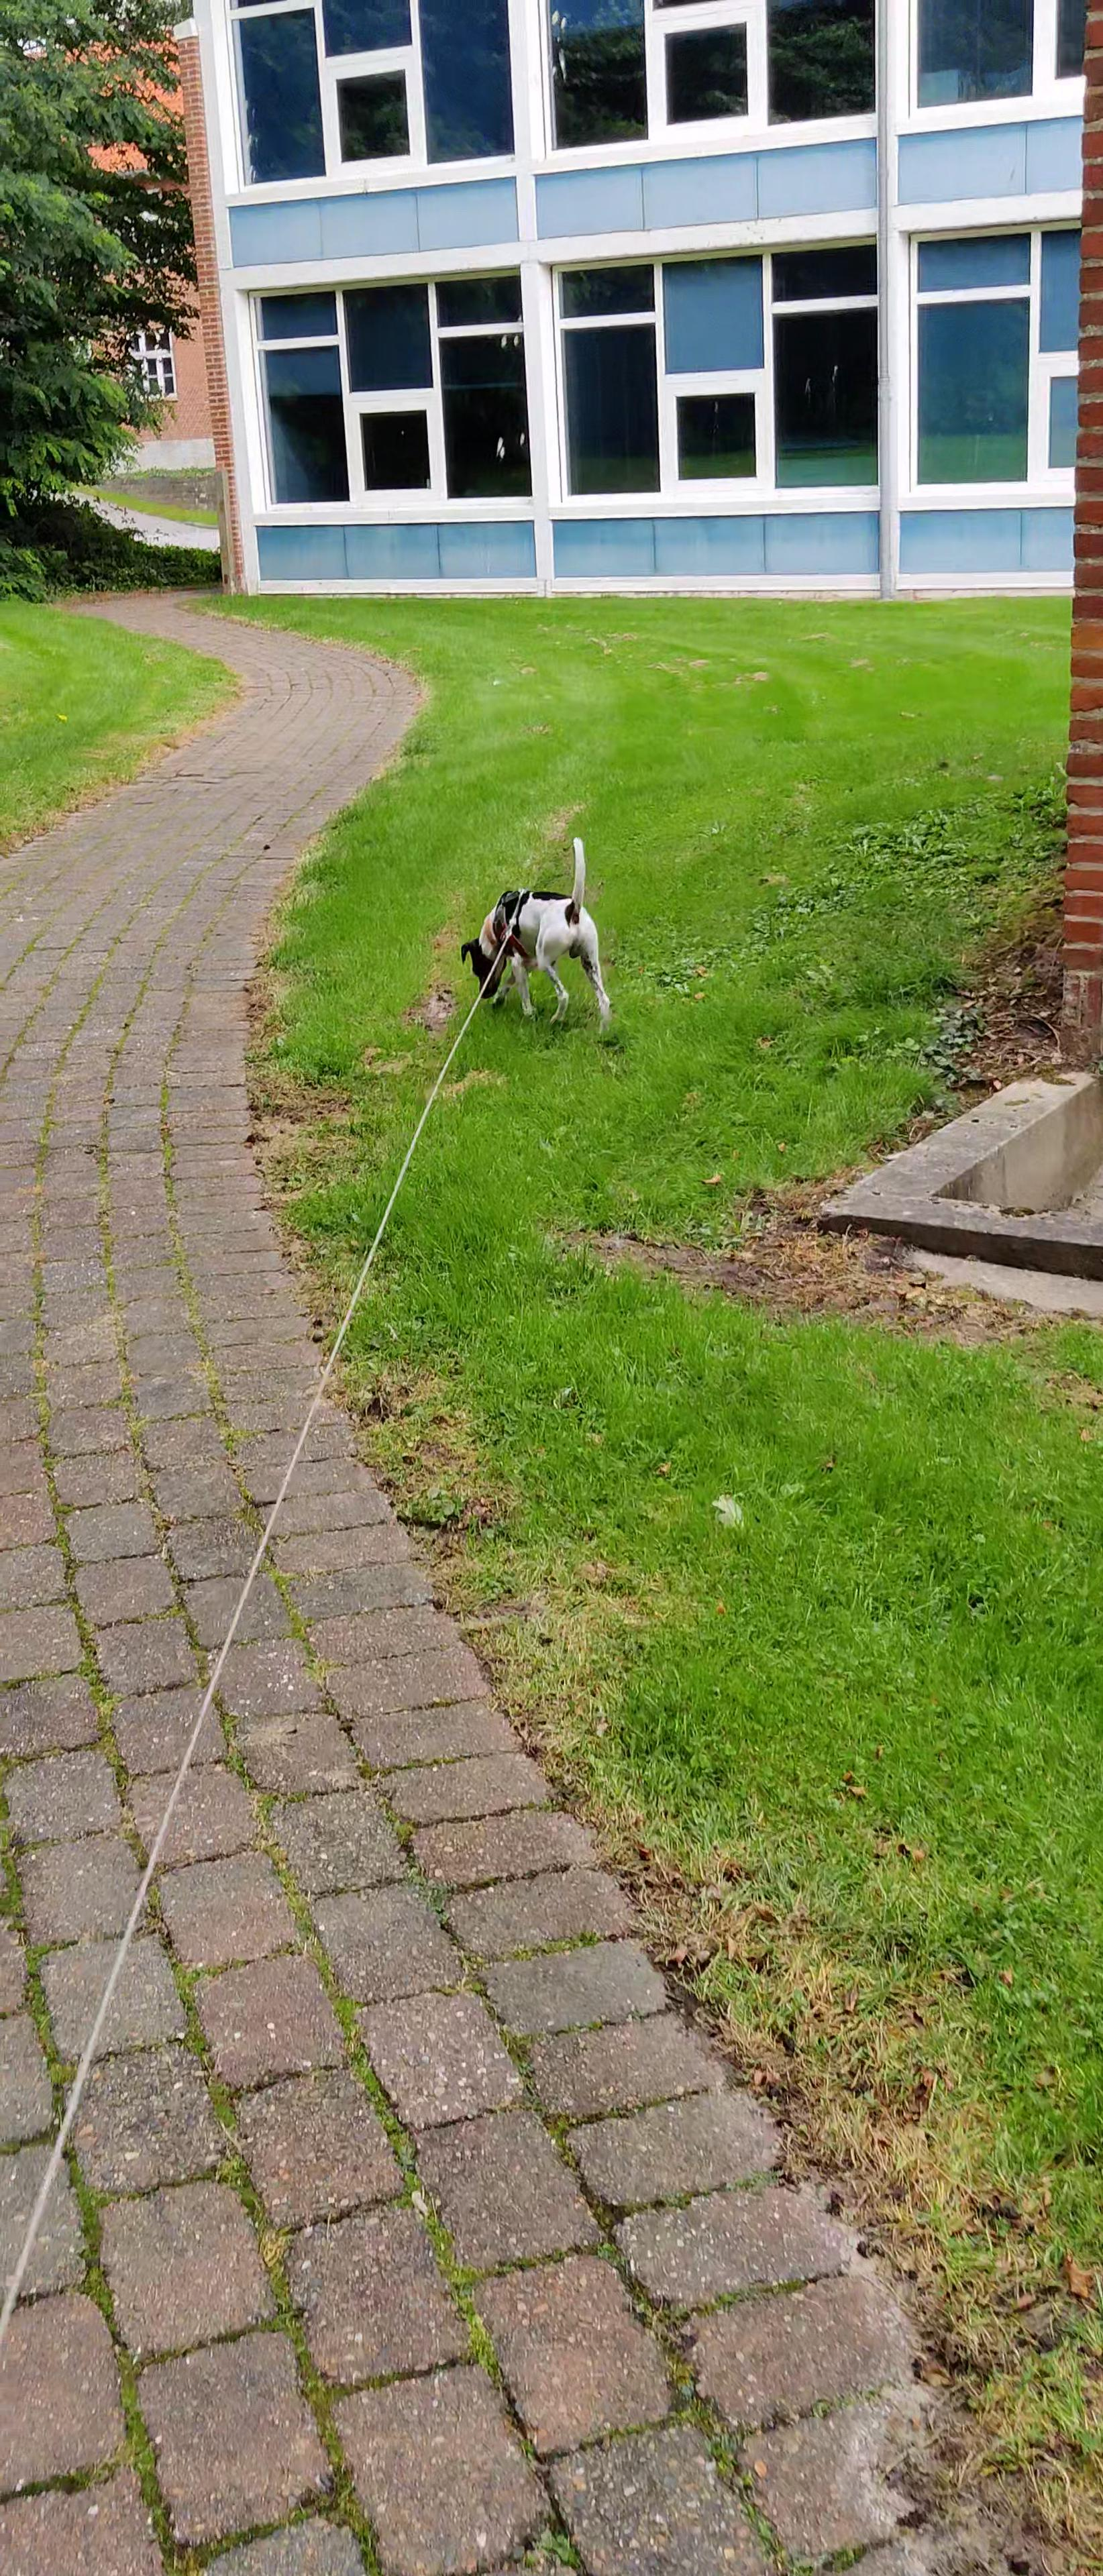Dog: (457, 830, 616, 1050)
